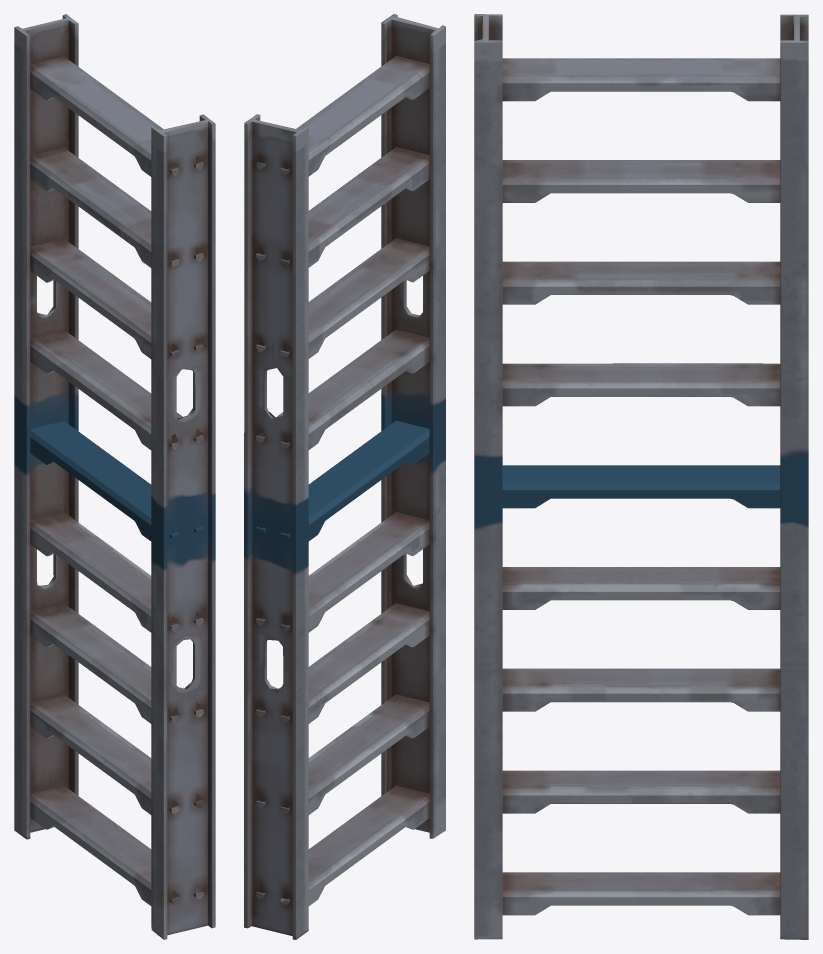
File: Ladder_Metal_C.glb
3 renders of one model, left to right at view 1: azimuth 30°, elevation 25°; view 2: azimuth 150°, elevation 25°; view 3: azimuth 270°, elevation 25°, orthographic. The views are drawn at different scales.
Visible parts, largest first — view 1: SM_Metal_Ladder; view 2: SM_Metal_Ladder; view 3: SM_Metal_Ladder.
Boxes of the visible parts, left/top/right/bottom form: SM_Metal_Ladder: left=14, top=14, right=215, bottom=939; SM_Metal_Ladder: left=244, top=14, right=445, bottom=939; SM_Metal_Ladder: left=474, top=14, right=808, bottom=939.
Bounding box in the file's own units: 0.2042 × 3 × 1.01.
Materials: 1 (1 with a texture image).
